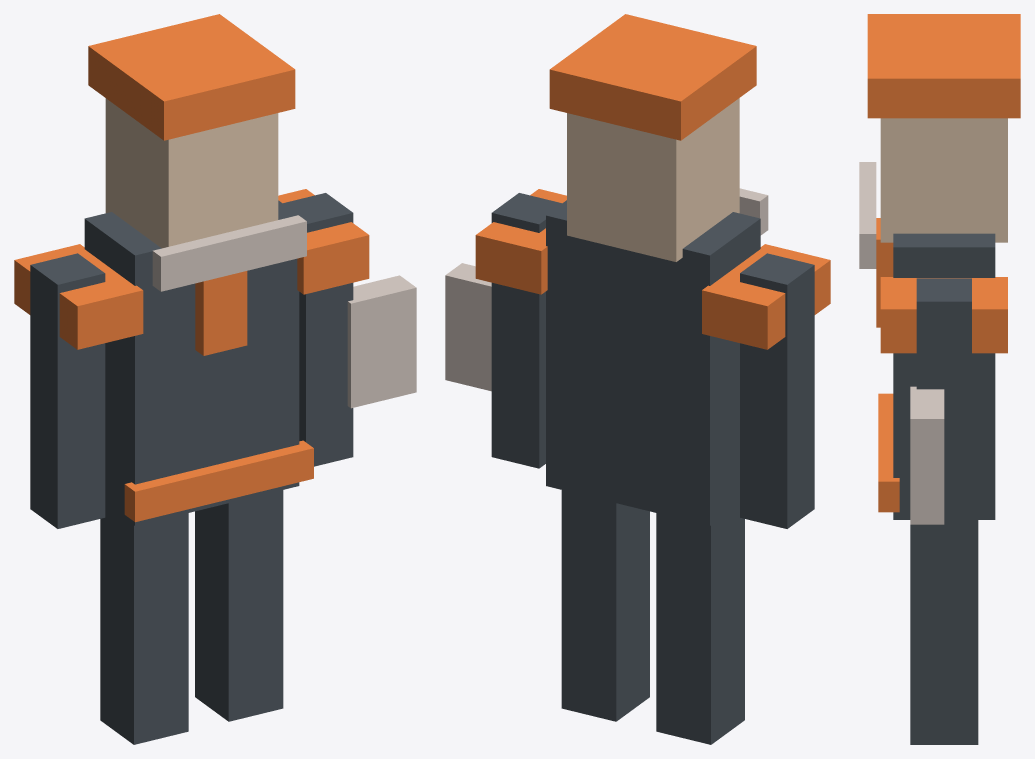
File: 15_tamsin_voxmere_operator_at_arrival.glb
3 views of the same model, side by side, from view 1: azimuth 30°, elevation 25°; view 2: azimuth 150°, elevation 25°; view 3: azimuth 270°, elevation 25° (orthographic).
Visible parts, largest first — view 1: Tamsin Voxmere, Operator at Arrival; view 2: Tamsin Voxmere, Operator at Arrival; view 3: Tamsin Voxmere, Operator at Arrival.
Boxes of the visible parts, left/top/right/bottom form: Tamsin Voxmere, Operator at Arrival: left=14, top=14, right=416, bottom=744; Tamsin Voxmere, Operator at Arrival: left=445, top=14, right=830, bottom=744; Tamsin Voxmere, Operator at Arrival: left=859, top=14, right=1020, bottom=744.
Bounding box in the file's own units: 0.9506 × 1.68 × 0.3705.
